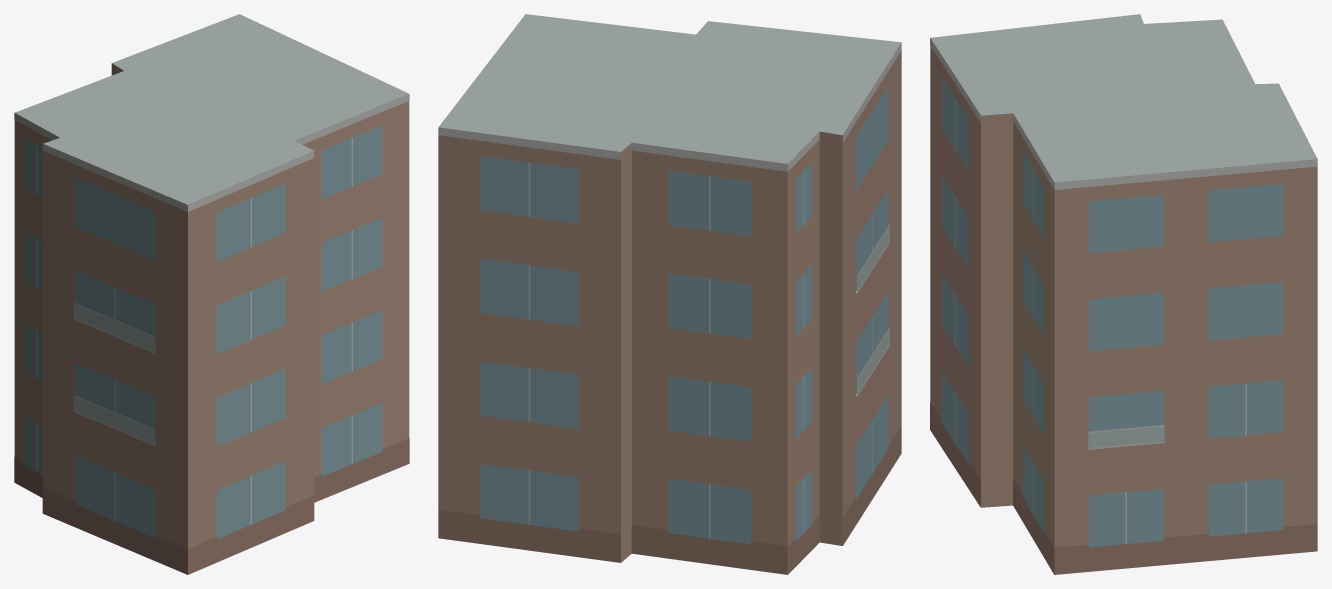
File: survey-upis-32650493.glb
The picture shows the model from 3 angles, left to right: view 1: azimuth 30°, elevation 25°; view 2: azimuth 150°, elevation 25°; view 3: azimuth 270°, elevation 25°; orthographic projection. The views are drawn at different scales.
Visible parts, largest first — view 1: survey-upis-32650493.tmp; view 2: survey-upis-32650493.tmp; view 3: survey-upis-32650493.tmp.
Boxes of the visible parts, x1,y1,x2,y2 form: survey-upis-32650493.tmp: (14, 14, 409, 574); survey-upis-32650493.tmp: (438, 14, 901, 574); survey-upis-32650493.tmp: (930, 14, 1317, 574).
Bounding box in the file's own units: 11.81 × 12.8 × 11.47.
